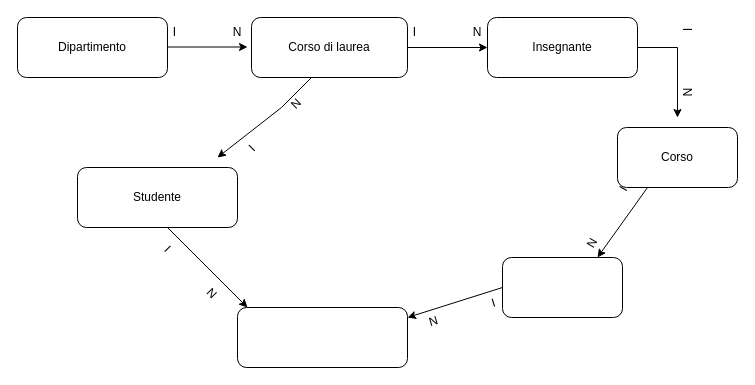
The diagram is 755 pixels wide and 385 high, and some of its shapes have lost their labels. The shapes that lost their labels are listed below. From the top down, each one's box as (x1, y1, x2, y2) in pixels, then its label:
(502, 256, 622, 318): Appello
(236, 306, 408, 368): Voto
